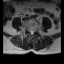CCS_stenosis: (31, 28, 32, 36)
LFS_stenosis: (34, 28, 36, 33)
LLS_normal: (32, 28, 34, 35)
RFS_normal: (27, 27, 29, 33)
RLS_normal: (29, 28, 31, 36)
